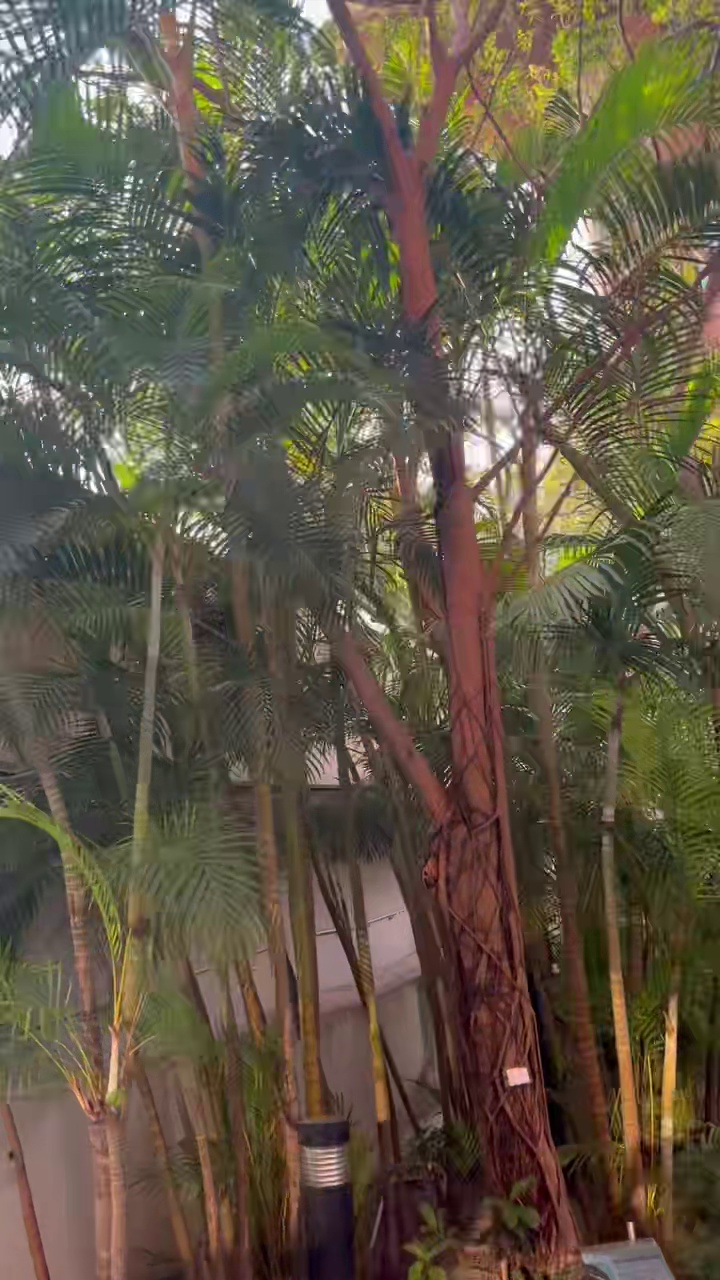Ficus benjamina: (328, 0, 578, 1273)
